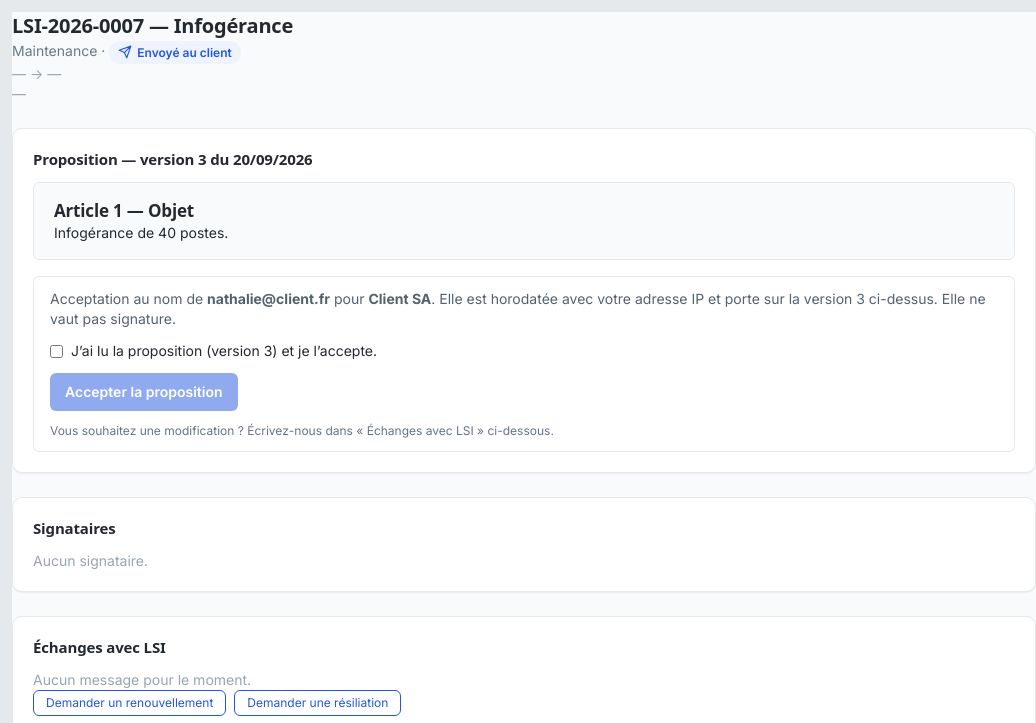
Test: un lecteur client (403) voit un message explicite
Click the checkbox labelled "J’ai lu la proposition (version 3) et je l’accepte." at (56, 352), box [50,345,63,358]
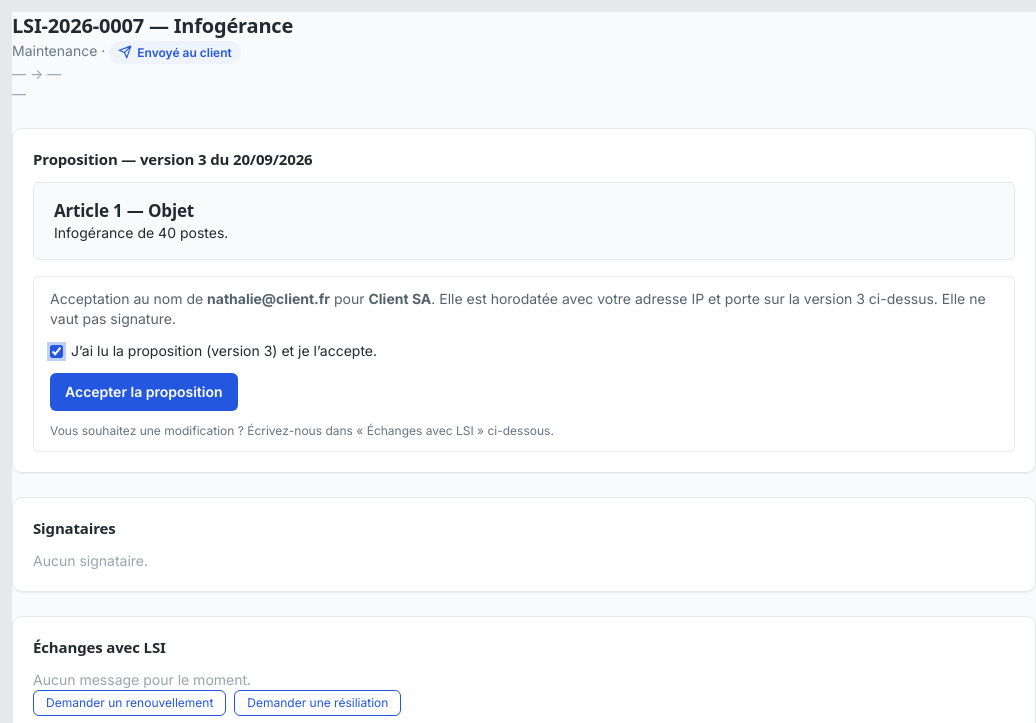
Click the button "Accepter la proposition" at (144, 392), box [50,373,238,411]
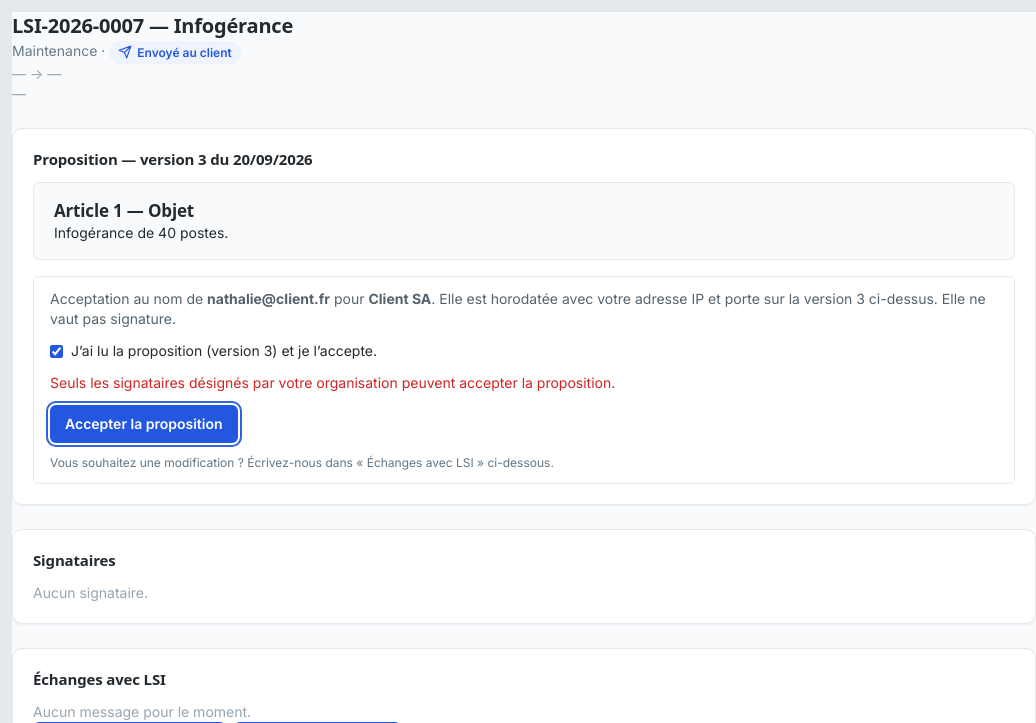
expect the text "Seuls les signataires désignés" is shown: met, box [50,374,615,391]
